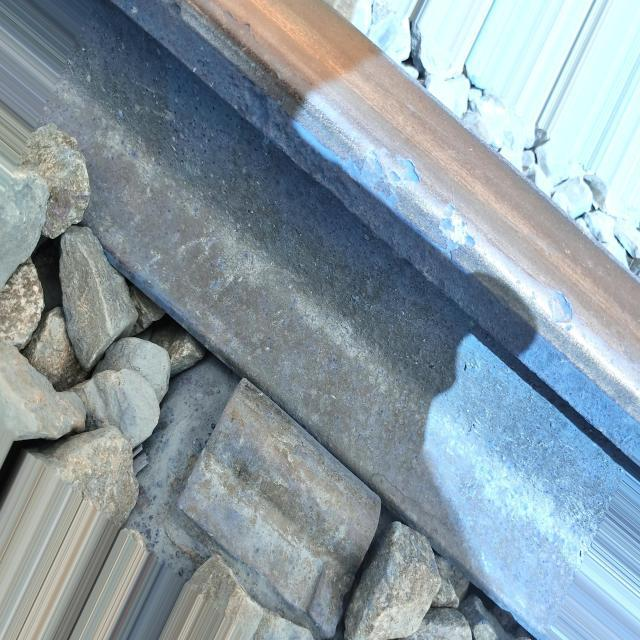squats_high: (546, 287, 576, 335), (397, 155, 421, 186), (438, 200, 458, 234), (463, 232, 475, 246)
